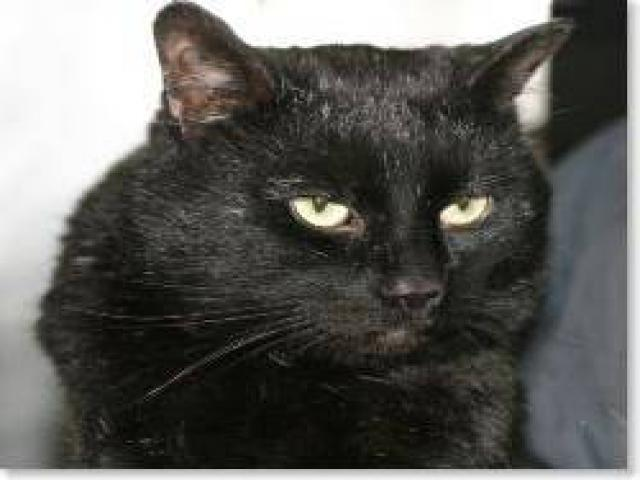cat: (30, 1, 576, 479)
